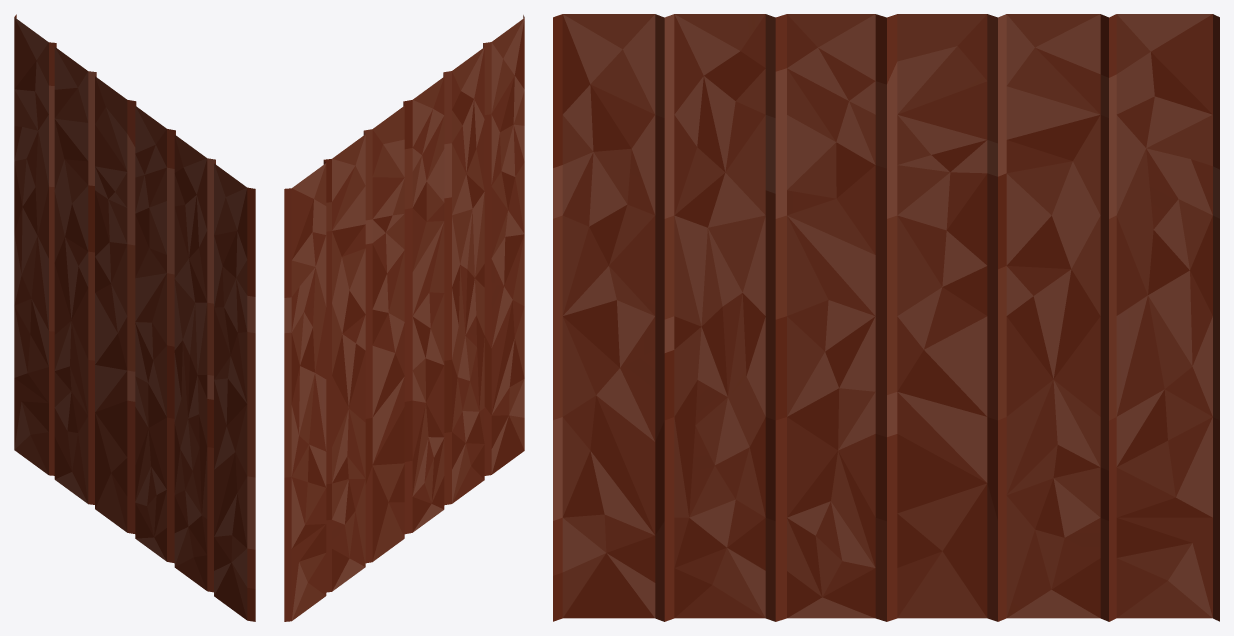
The model's file is Wall_D.fbx.
3 renders of one model, left to right at view 1: azimuth 30°, elevation 25°; view 2: azimuth 150°, elevation 25°; view 3: azimuth 270°, elevation 25°, orthographic. The views are drawn at different scales.
Visible parts, largest first — view 1: polySurface3665; view 2: polySurface3665; view 3: polySurface3665.
Boxes of the visible parts, <box> form: polySurface3665: <box>14,14,255,621</box>; polySurface3665: <box>284,15,524,621</box>; polySurface3665: <box>553,14,1219,621</box>.
Size of the model in its own units: 5 by 400 by 400.
